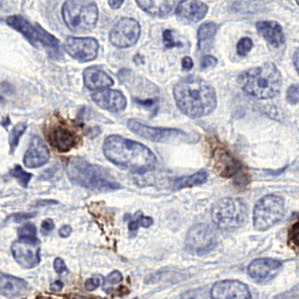Lymphocyte: (45, 113, 82, 155)
